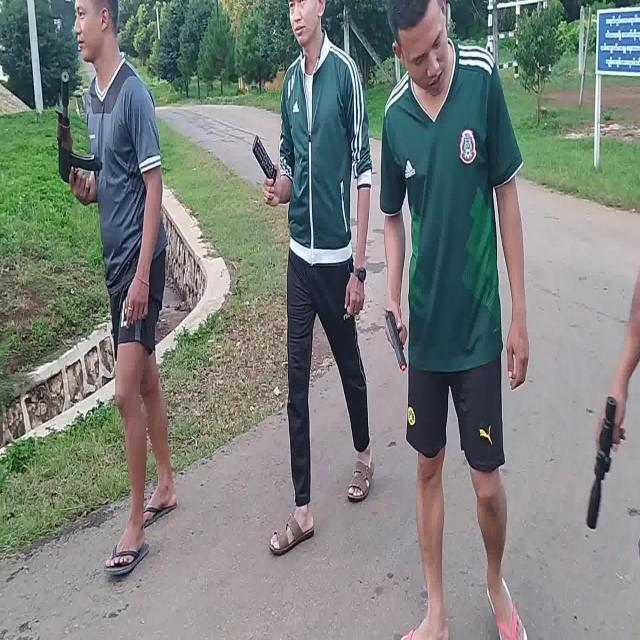gun: (57, 73, 102, 183), (386, 311, 406, 371)
